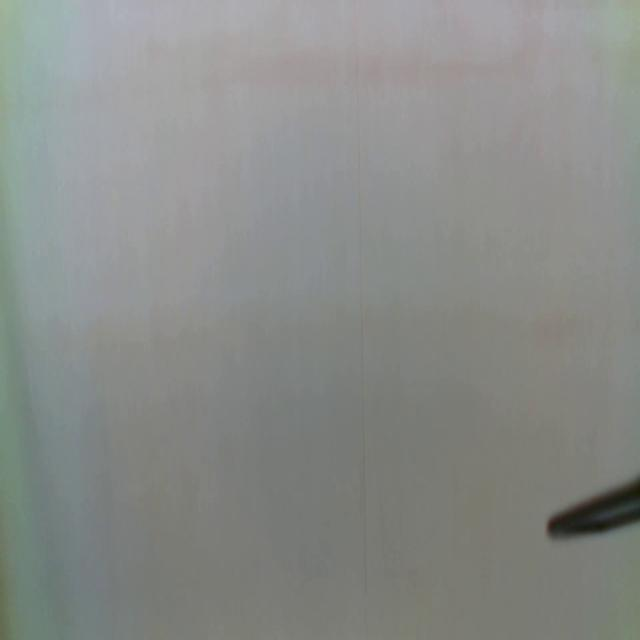color bleeding: (82, 300, 587, 373), (56, 40, 537, 114)
crease: (353, 0, 371, 640)
